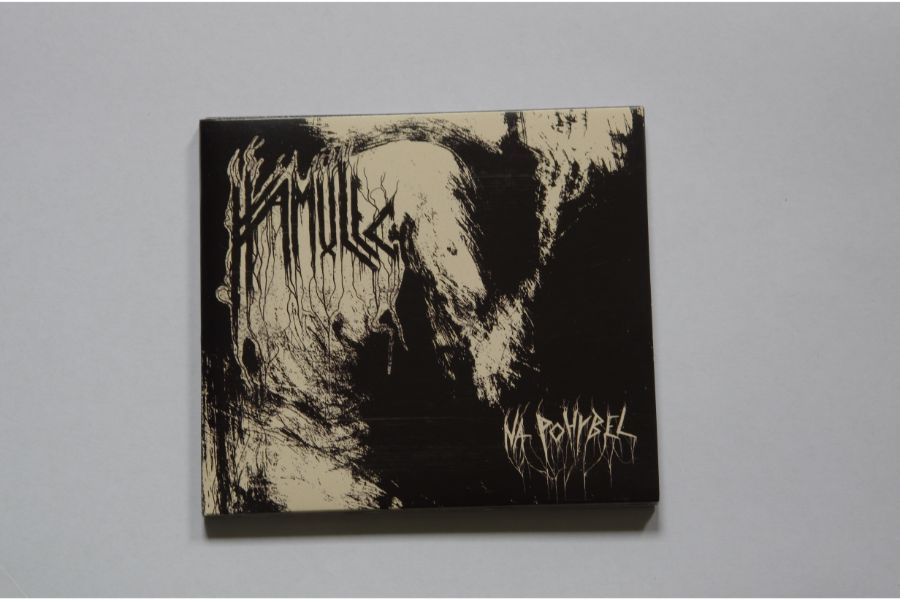album: (196, 104, 665, 516)
